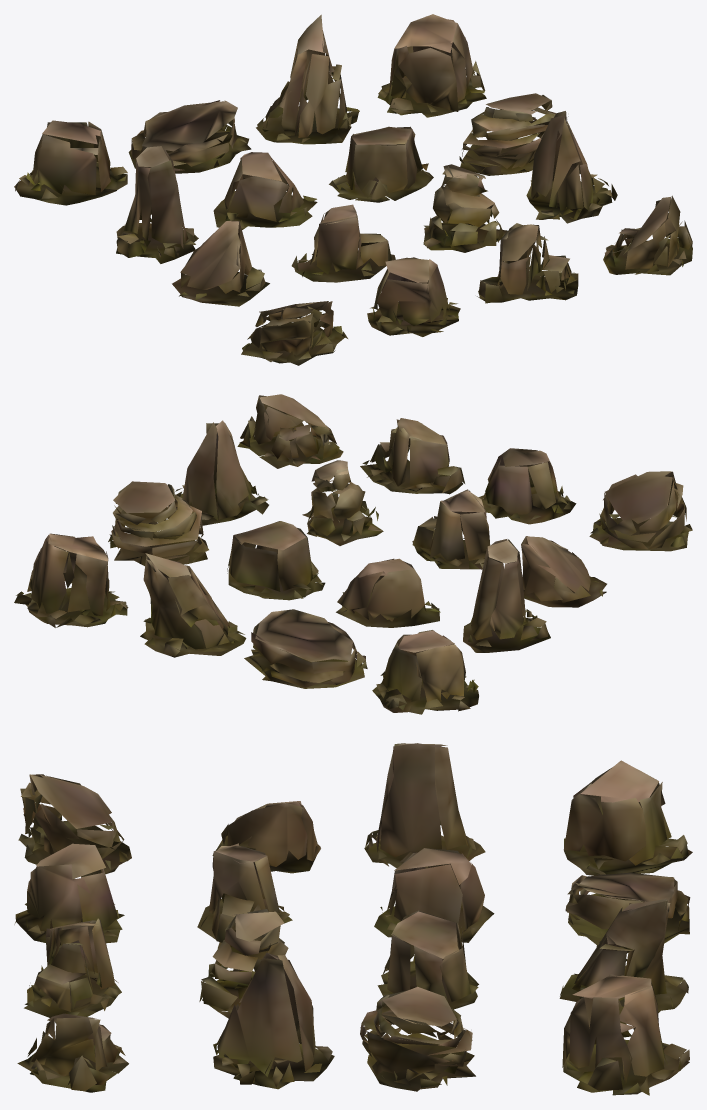
File: Rock_Formations_Colle_2_town.glb
3 renders of one model, top to bottom at view 1: azimuth 30°, elevation 25°; view 2: azimuth 150°, elevation 25°; view 3: azimuth 270°, elevation 25°, orthographic. The views are drawn at different scales.
Parts seen in each view (by area): view 1: Rock_Formations_Colle_2; view 2: Rock_Formations_Colle_2; view 3: Rock_Formations_Colle_2.
Part boxes in pixels (x1=…): Rock_Formations_Colle_2: x1=14, y1=14, x2=692, y2=365; Rock_Formations_Colle_2: x1=14, y1=394, x2=692, y2=714; Rock_Formations_Colle_2: x1=14, y1=743, x2=692, y2=1095.
Size of the model in its own units: 1.84 by 0.363 by 1.89.
Materials: 1 (1 with a texture image).
